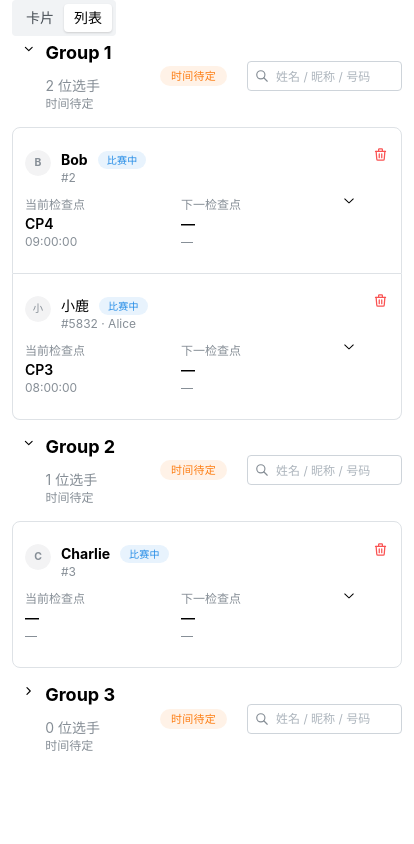
Test: tracking group interactions › matches  ALICE  in the actual list UI
The image size is (414, 844).
Type " ALICE " into the field named "筛选Group 1选手". click: (324, 76)
box: [247,61,402,91]
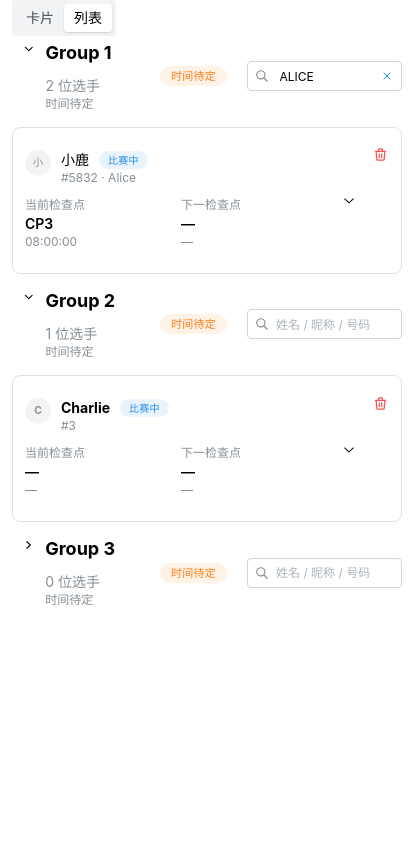
Expected: the button "Bob" is gone
